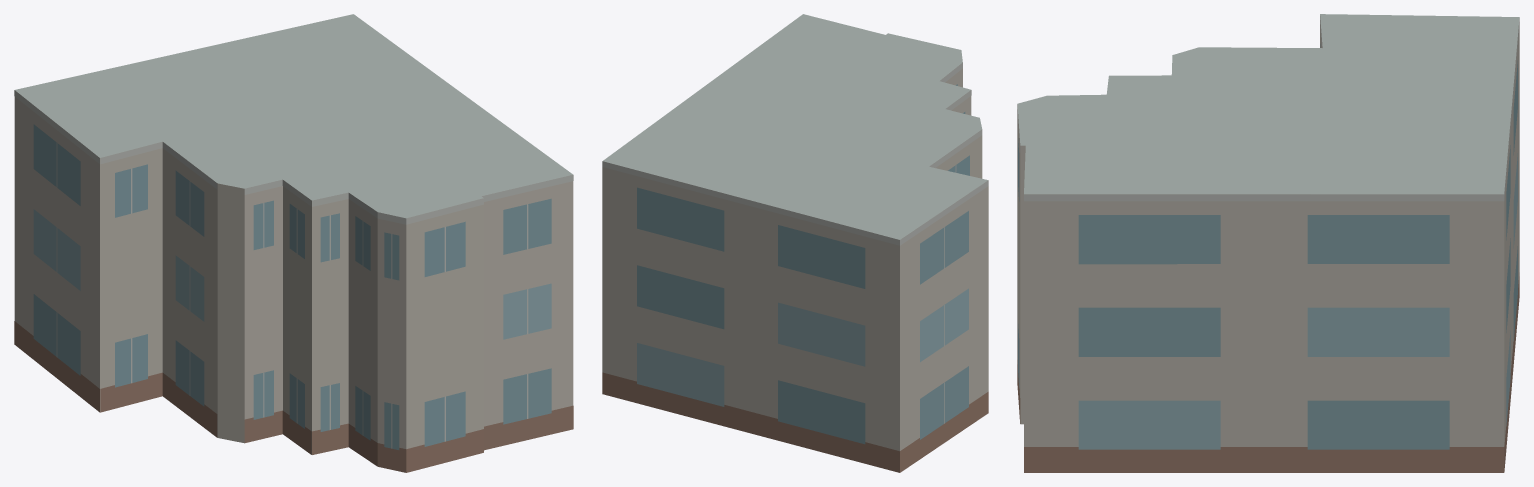
File: survey-upis-32678192.glb
The picture shows the model from 3 angles, left to right: view 1: azimuth 30°, elevation 25°; view 2: azimuth 150°, elevation 25°; view 3: azimuth 270°, elevation 25°; orthographic projection. The views are drawn at different scales.
Visible parts, largest first — view 1: survey-upis-32678192.tmp; view 2: survey-upis-32678192.tmp; view 3: survey-upis-32678192.tmp.
Part boxes in pixels (x1,y1,x2,y2): survey-upis-32678192.tmp: [14, 14, 573, 472]; survey-upis-32678192.tmp: [602, 14, 988, 472]; survey-upis-32678192.tmp: [1017, 14, 1519, 472].
Size of the model in its own units: 13.49 by 9.7 by 15.87.
